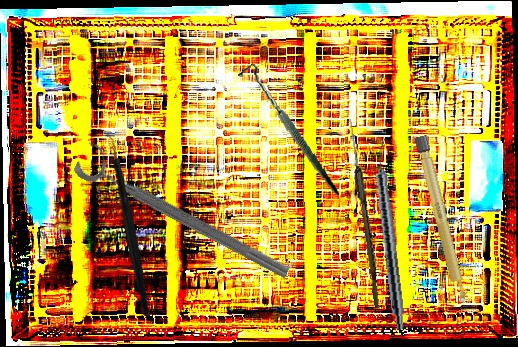Chopper: (71, 127, 178, 318)
Fixation Ring: (71, 138, 300, 285)
Handpiece: (369, 138, 411, 331)
Hook Surgical: (237, 55, 339, 206)
Scalpel Handle: (413, 134, 469, 306)
Surgical Spoon: (345, 118, 384, 309)
